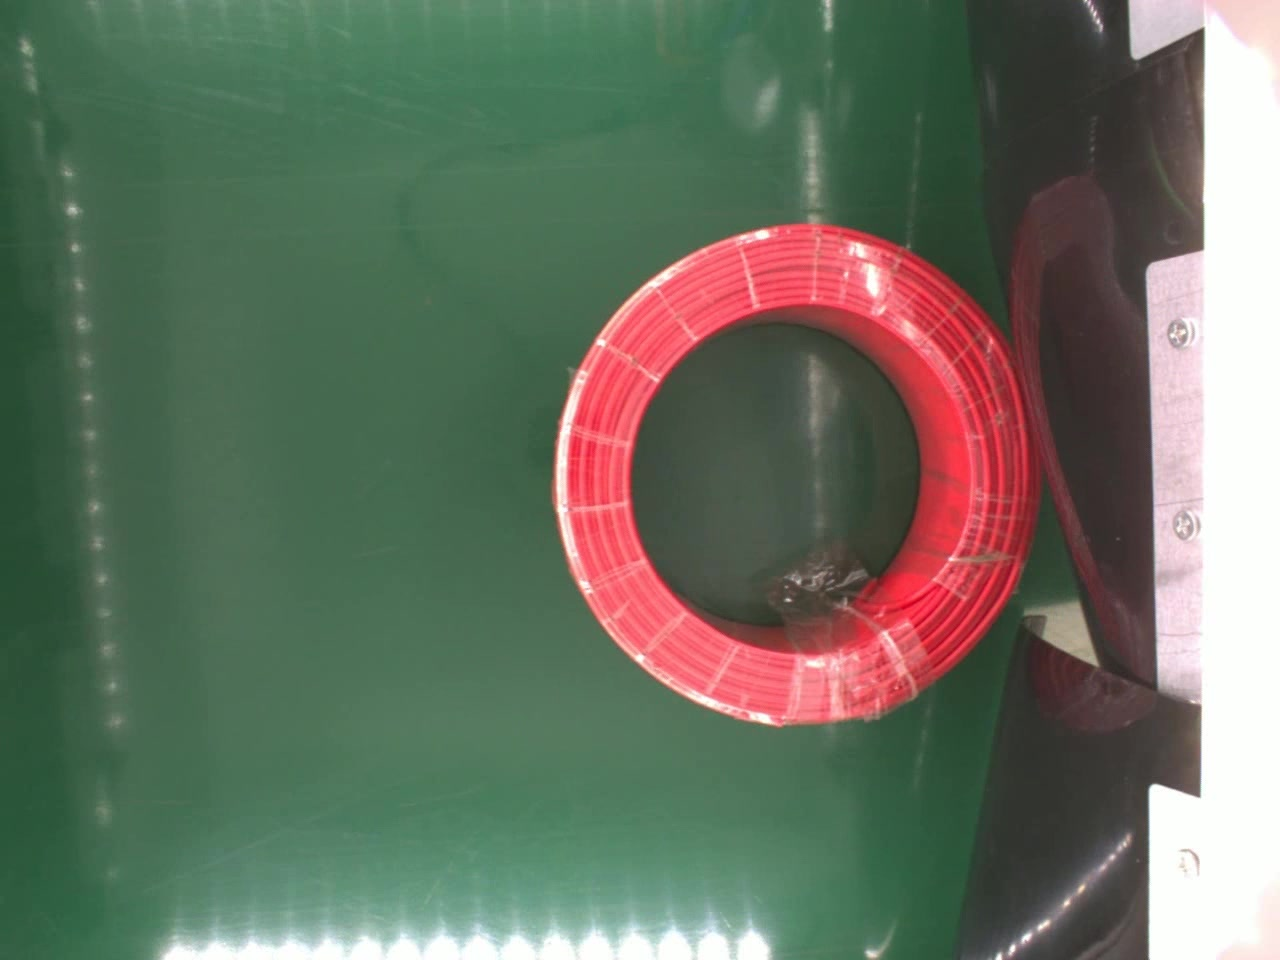red: (549, 223, 1036, 726)
